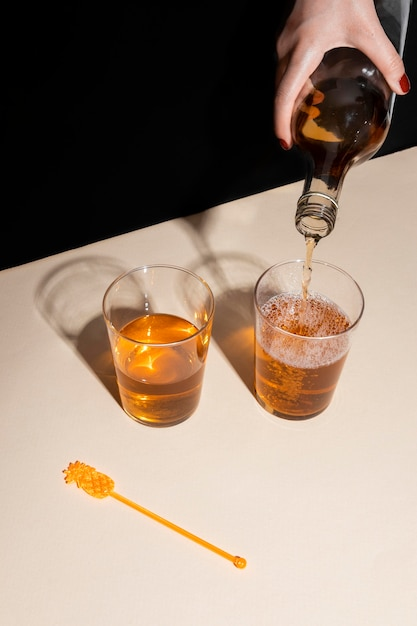alcohol: (292, 0, 417, 236), (251, 254, 366, 425), (100, 265, 218, 428)
